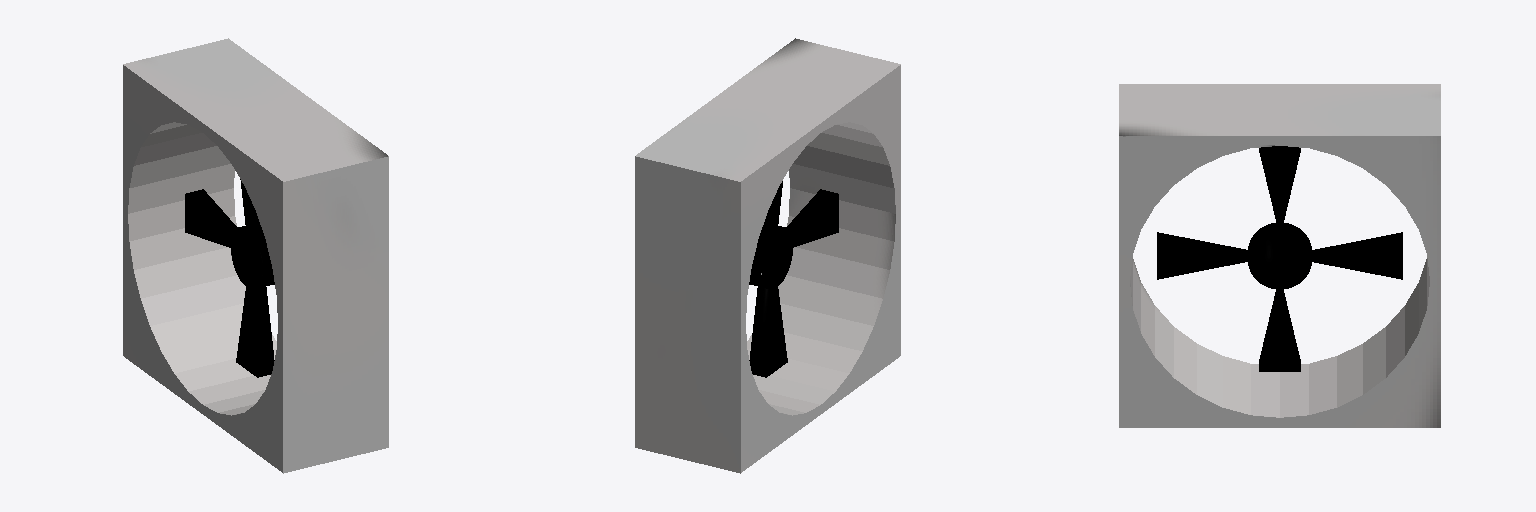
The picture shows the model from 3 angles: view 1: azimuth 30°, elevation 25°; view 2: azimuth 150°, elevation 25°; view 3: azimuth 270°, elevation 25°; orthographic projection.
Parts seen in each view (by area): view 1: 円柱; view 2: 円柱; view 3: 円柱.
Boxes of the visible parts, x1=… form: 円柱: x1=123, y1=38, x2=388, y2=473; 円柱: x1=635, y1=38, x2=900, y2=473; 円柱: x1=1119, y1=84, x2=1440, y2=427.
Size of the model in its own units: 1.14 by 3 by 3.
1 materials, 1 textured.